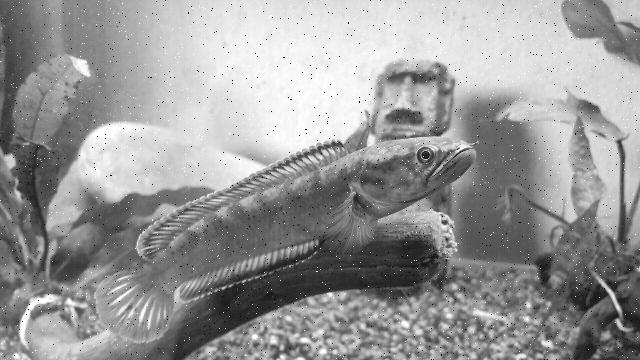Mulut: (422, 144, 488, 192)
Sirip Anal: (175, 230, 323, 306)
Sirip Dada: (318, 182, 380, 258)
Sirip Ekor: (92, 264, 178, 346)
Sirip Punggung: (134, 137, 356, 265)
